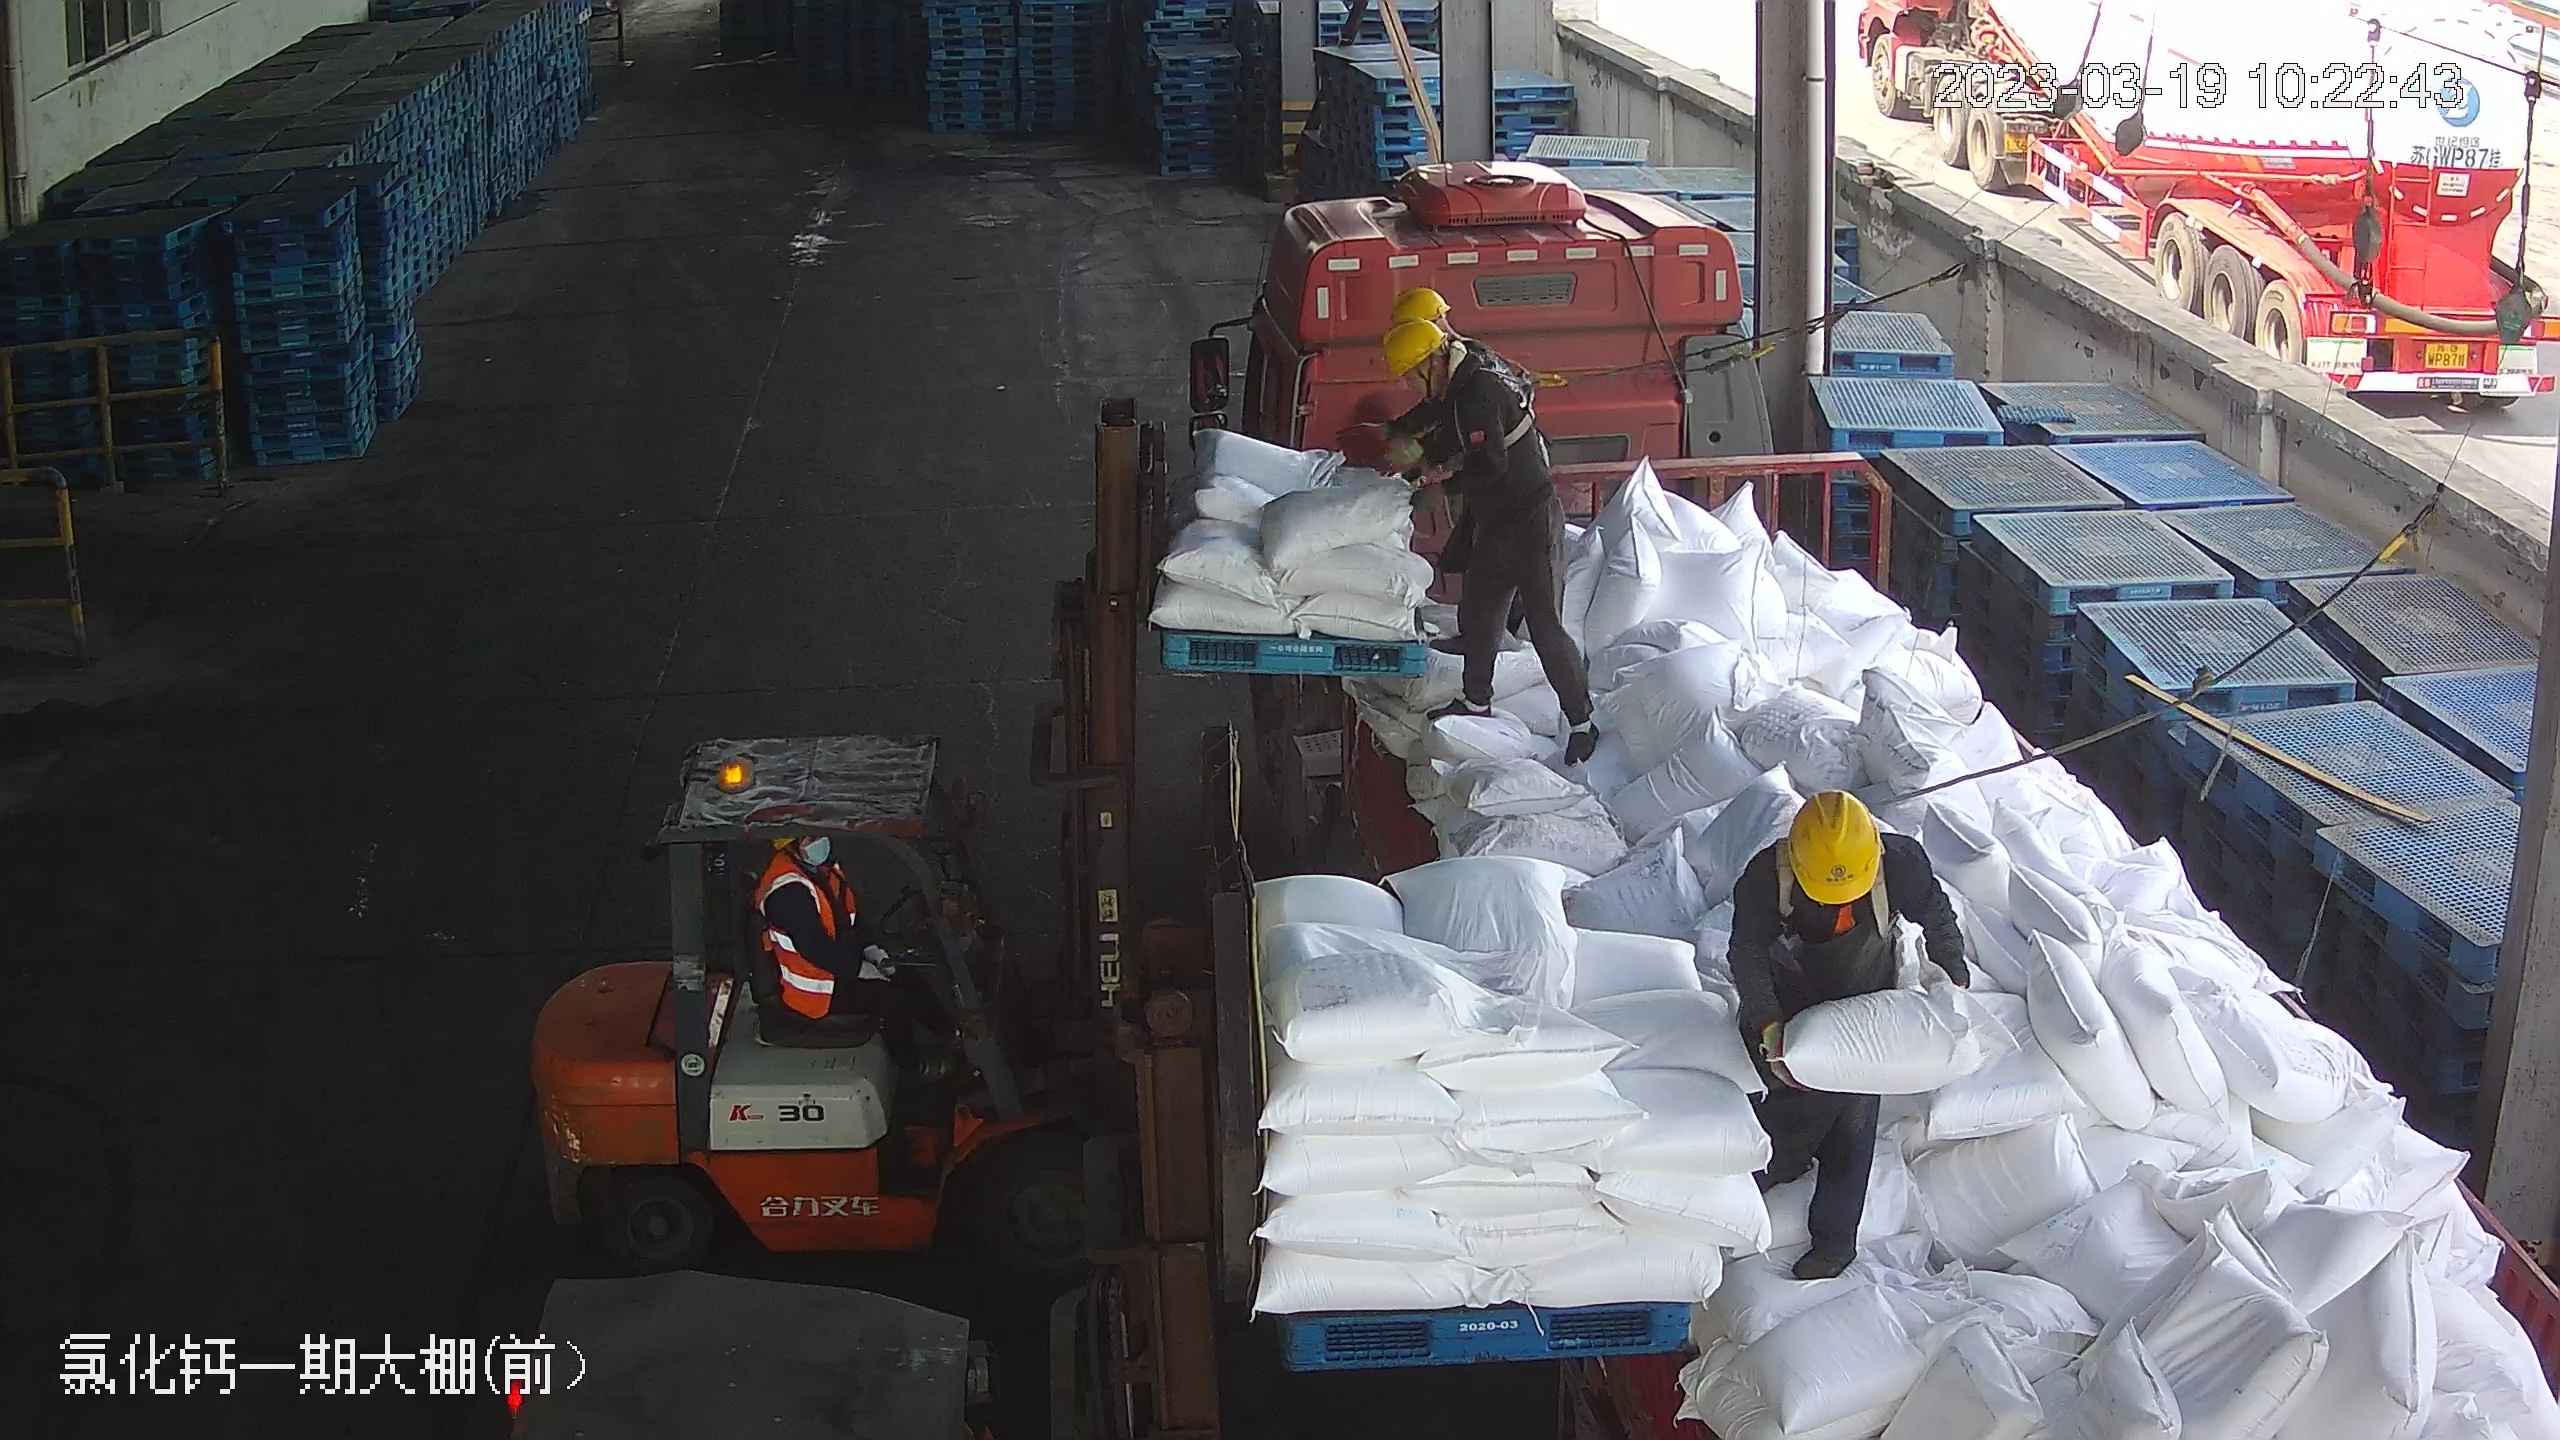belt: (1442, 344, 1556, 450), (1788, 846, 1886, 939)
head: (1742, 787, 1930, 943), (1376, 294, 1520, 427), (750, 829, 860, 929)
helmet: (1784, 788, 1882, 902), (1380, 286, 1450, 368)
people: (1352, 297, 1607, 760), (1728, 785, 1966, 1277), (748, 827, 959, 1100)
truck: (1223, 162, 2318, 1438)
